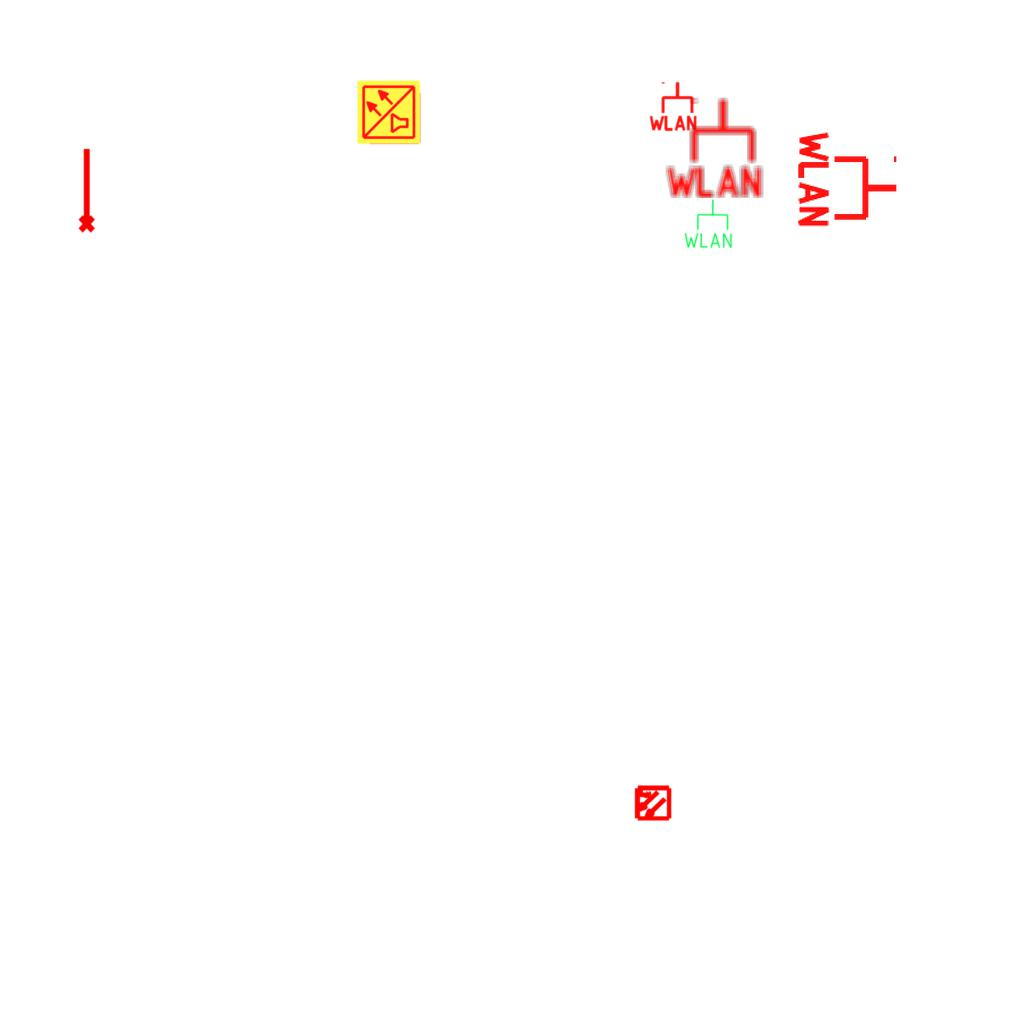ASR_Ansaugoeffnung: (74, 146, 97, 234)
OKW_Multisensormelder_(Kombination_optischer_Rauch-Kahlenmonoxid_Waerme-Melder): (356, 79, 422, 145)
OT_Multisensormelder_(Kombination_RMO_WMD): (624, 775, 680, 831)
WLAN: (796, 127, 901, 231), (662, 95, 766, 200), (647, 80, 699, 132), (682, 198, 734, 250)
